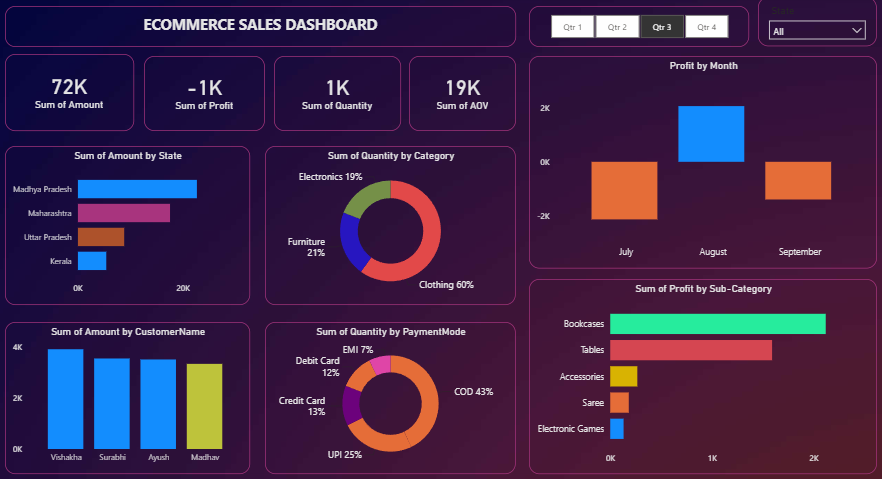

Layout of this report page (visuals, bound fields, positions):
{"tool":"powerbi","page":{"name":"Page 1","canvas":[1280,720],"ordinal":0},"visuals":[{"type":"textbox","box":[10.1,13,735.8,59],"z":0},{"type":"columnChart","title":"Profit by Month","fields":{"Y":["Sum(Details.Profit)"],"Category":["Orders.Order Date.Variation.Date Hierarchy.Month"]},"box":[764.3,84.3,501.4,305.7],"z":1000},{"type":"barChart","fields":{"Category":["Details.Sub-Category"],"Y":["Sum(Details.Profit)"]},"box":[764.3,405.7,501.4,281.4],"z":2000},{"type":"donutChart","fields":{"Category":["Details.Category"],"Y":["Sum(Details.Quantity)"]},"box":[384.3,214.3,361.4,228.6],"z":3000},{"type":"donutChart","fields":{"Category":["Details.PaymentMode","Details.Category"],"Y":["Sum(Details.Quantity)"]},"box":[384.5,468,361.4,218.9],"z":4000},{"type":"cardVisual","fields":{"Data":["Sum(Details.Amount)"]},"box":[10.1,82.1,185.8,110.9],"z":5000},{"type":"cardVisual","fields":{"Data":["Sum(Details.Profit)"]},"box":[210.2,85,174.2,108],"z":6000},{"type":"cardVisual","fields":{"Data":["Sum(Details.Quantity)"]},"box":[397.4,85,182.9,108],"z":7000},{"type":"cardVisual","fields":{"Data":["Sum(Details.AOV)"]},"box":[591.8,85,154.1,108],"z":8000},{"type":"barChart","fields":{"Y":["Sum(Details.Amount)"],"Category":["Orders.State"]},"box":[10,214.3,352.9,228.6],"z":9000},{"type":"columnChart","fields":{"Category":["Orders.CustomerName"],"Y":["Sum(Details.Amount)"]},"box":[10.1,468,352.8,218.9],"z":10000},{"type":"slicer","fields":{"Values":["Orders.Order Date.Variation.Date Hierarchy.Quarter"]},"box":[764.3,12.9,317.1,58.6],"z":11000},{"type":"slicer","fields":{"Values":["Orders.State"]},"box":[1094.3,0,171.4,71.4],"z":12000}]}

Visuals, with their boxes on the page's 1280x720 design canvas (x1, y1, x2, y2). These are canvas units, not pixel positions in the 882x479 screenshot, which may show the page scaled, cropped or inside an application window:
textbox: pyautogui.locateOnScreen(10, 13, 746, 72)
"Profit by Month" columnChart: pyautogui.locateOnScreen(764, 84, 1266, 390)
barChart - Details.Sub-Category x Sum(Details.Profit): pyautogui.locateOnScreen(764, 406, 1266, 687)
donutChart - Details.Category x Sum(Details.Quantity): pyautogui.locateOnScreen(384, 214, 746, 443)
donutChart - Details.PaymentMode x Details.Category: pyautogui.locateOnScreen(384, 468, 746, 687)
cardVisual - Sum(Details.Amount): pyautogui.locateOnScreen(10, 82, 196, 193)
cardVisual - Sum(Details.Profit): pyautogui.locateOnScreen(210, 85, 384, 193)
cardVisual - Sum(Details.Quantity): pyautogui.locateOnScreen(397, 85, 580, 193)
cardVisual - Sum(Details.AOV): pyautogui.locateOnScreen(592, 85, 746, 193)
barChart - Sum(Details.Amount) x Orders.State: pyautogui.locateOnScreen(10, 214, 363, 443)
columnChart - Orders.CustomerName x Sum(Details.Amount): pyautogui.locateOnScreen(10, 468, 363, 687)
slicer - Orders.Order Date.Variation.Date Hierarchy.Quarter: pyautogui.locateOnScreen(764, 13, 1081, 72)
slicer - Orders.State: pyautogui.locateOnScreen(1094, 0, 1266, 71)
